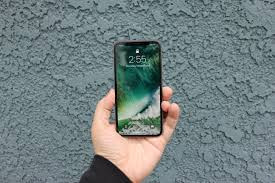iphone10: (111, 37, 164, 136)
